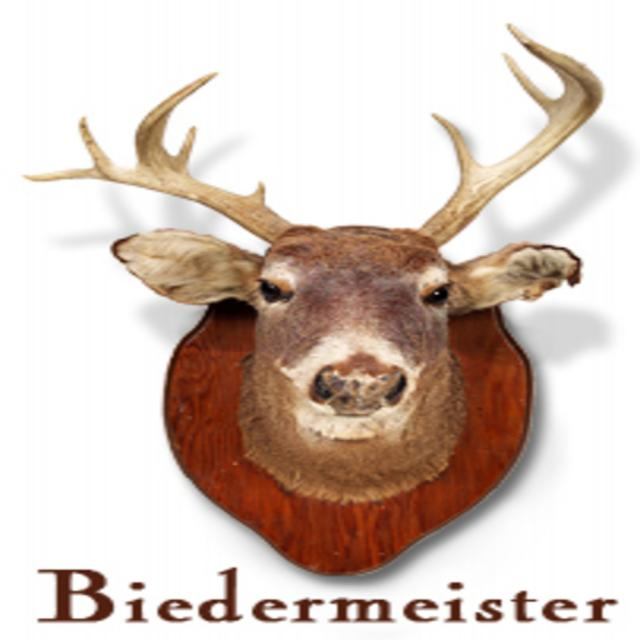Deer: (20, 23, 605, 505)
